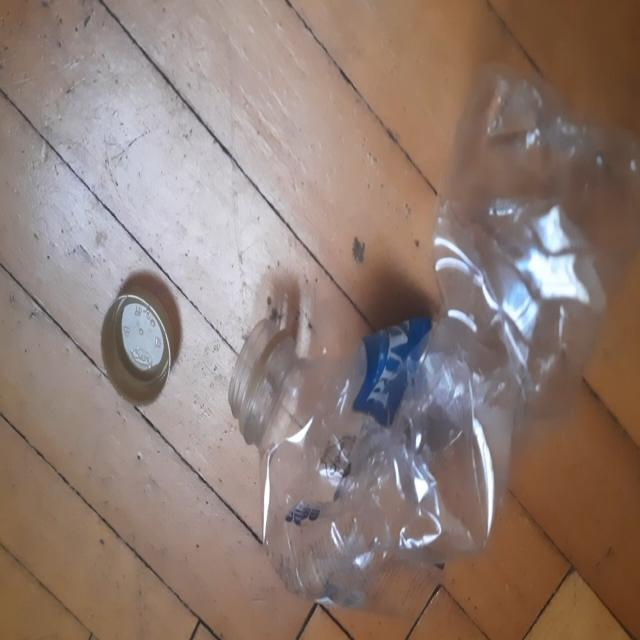Plastic: (231, 65, 637, 609)
